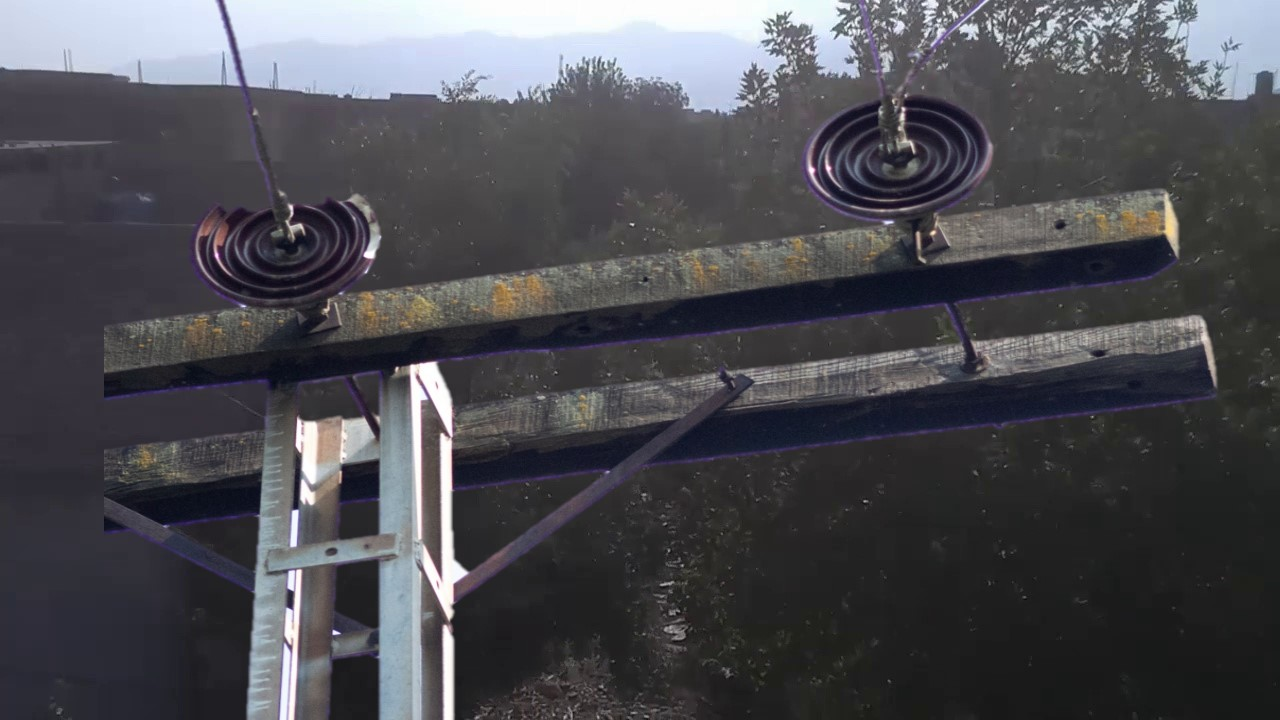defect_disc: (191, 188, 387, 319)
insulator_disc: (802, 92, 999, 222)
